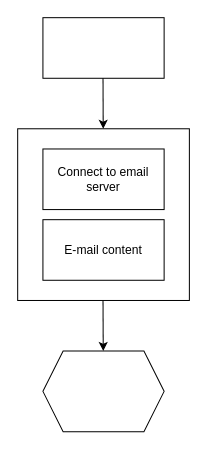
Image size: 207x449. Some labels were removed from this diagram. The shapes that lost their labels are listed below. From the top down, each one's centre as x and y in pixels, then its label:
the point at 103,47: Import nodemailer Import cron
the point at 103,391: Send mail at predetermined time
